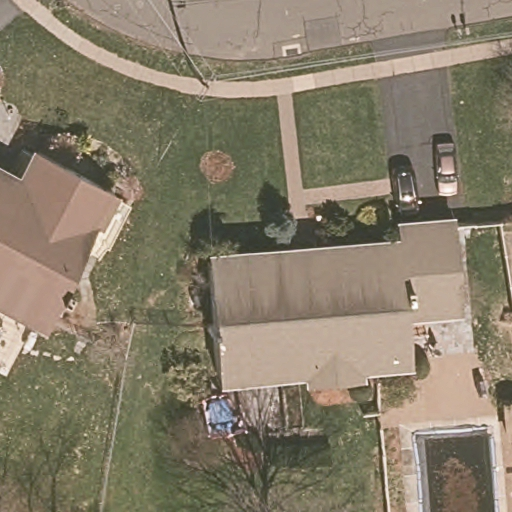DT: (193, 70, 220, 103)
